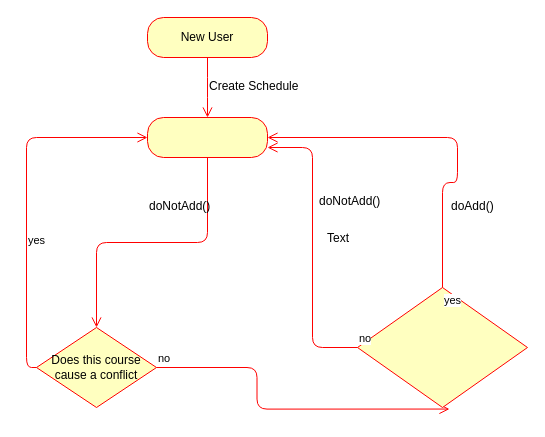
Some shapes in this 545 by 437 pixel diagram are drawn without their labels. Here are the shapes that lost their labels. From the top down, the centre of each, then its label:
the point at 207,137: Need Course
the point at 442,347: Are the Ratings for this Course acceptable?
